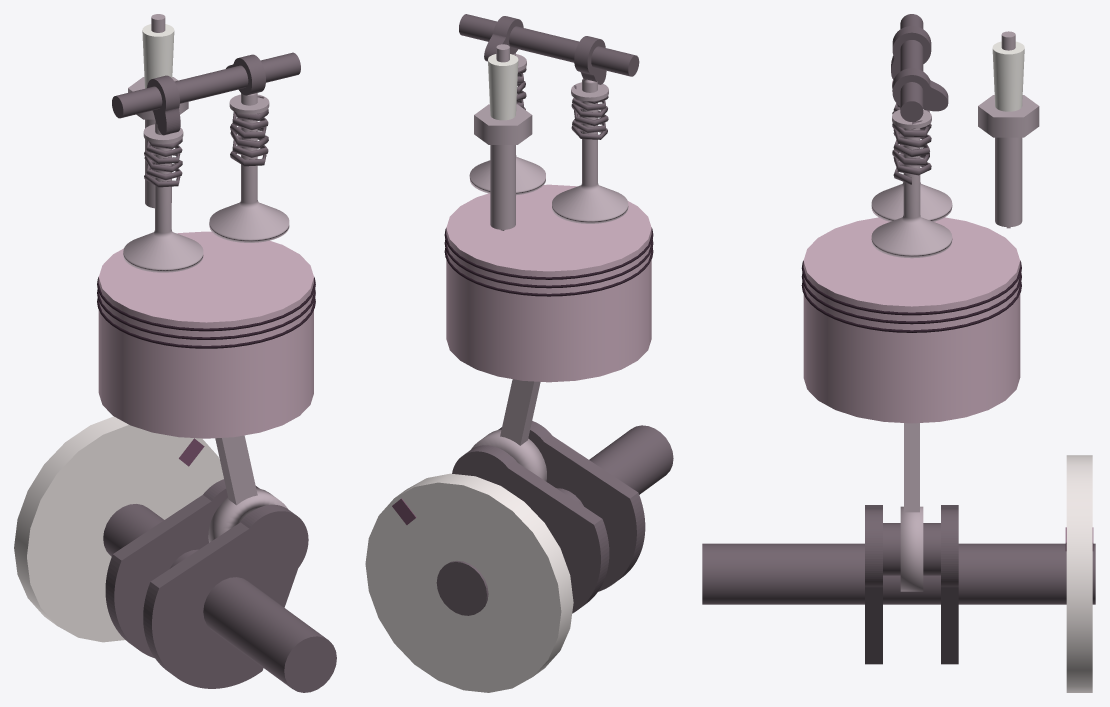
Rendered from four-stroke.glb.
3 renders of one model, left to right at view 1: azimuth 30°, elevation 25°; view 2: azimuth 150°, elevation 25°; view 3: azimuth 270°, elevation 25°, orthographic. The views are drawn at different scales.
Parts seen in each view (by area): view 1: crankshaft, piston, camshaft, exhaustValve, intakeValve, rod, plug, exhaustSpring, intakeSpring; view 2: crankshaft, piston, plug, camshaft, intakeValve, rod, exhaustValve, intakeSpring; view 3: piston, crankshaft, plug, exhaustValve, camshaft, rod, intakeValve, exhaustSpring.
Part boxes in pixels (x1,y1,x2,y2): crankshaft: (14, 416, 336, 692); piston: (97, 231, 315, 438); camshaft: (112, 52, 300, 135); exhaustValve: (209, 93, 289, 242); intakeValve: (123, 121, 203, 272); rod: (208, 435, 287, 542); plug: (128, 14, 188, 208); exhaustSpring: (230, 96, 268, 166); intakeSpring: (144, 138, 182, 187); crankshaft: (365, 421, 673, 692); piston: (444, 184, 653, 382); plug: (474, 44, 532, 230); camshaft: (459, 14, 639, 84); intakeValve: (552, 78, 628, 223); rod: (471, 379, 546, 481); exhaustValve: (469, 53, 545, 195); intakeSpring: (571, 85, 608, 139); piston: (801, 217, 1021, 423); crankshaft: (702, 455, 1095, 692); plug: (978, 31, 1039, 228); exhaustValve: (871, 109, 952, 258); camshaft: (891, 14, 948, 121); rod: (900, 423, 923, 591); intakeValve: (871, 80, 952, 221); exhaustSpring: (892, 120, 931, 184).
Size of the model in its own units: 0.074 by 0.2216 by 0.122.
